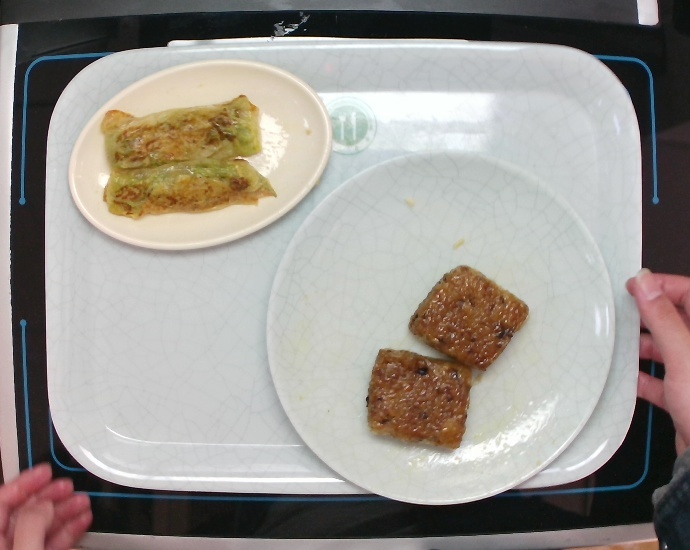JYsf-Da_Yuan_Pan: (259, 143, 623, 510)
JYsf-Tuo_Yuan_Wan: (61, 54, 338, 257)
